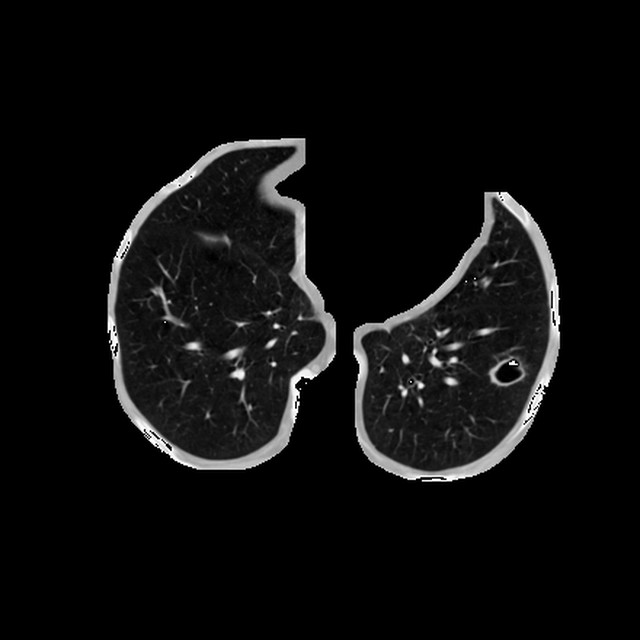PN: (492, 355, 524, 387)
